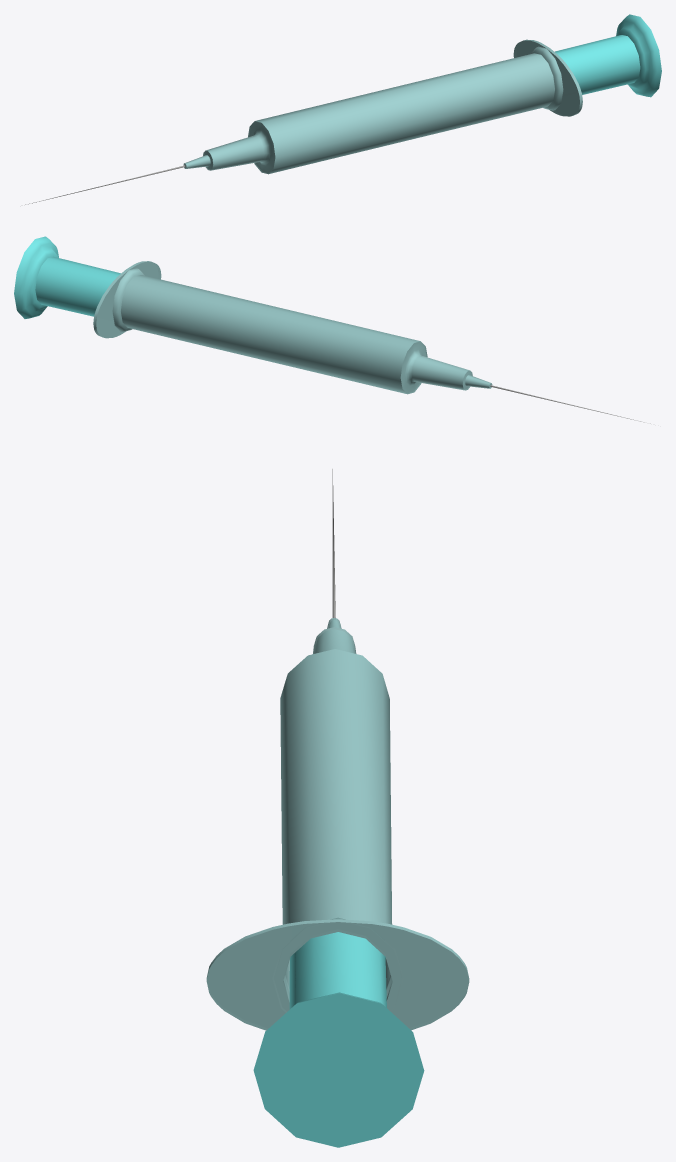
File: Syringe.fbx
3 renders of one model, top to bottom at view 1: azimuth 30°, elevation 25°; view 2: azimuth 150°, elevation 25°; view 3: azimuth 270°, elevation 25°, orthographic. The views are drawn at different scales.
Visible parts, largest first — view 1: sy_Shape_1_1; view 2: sy_Shape_1_1; view 3: sy_Shape_1_1.
Part boxes in pixels (left/top/right/bottom): sy_Shape_1_1: left=25, top=14, right=661, bottom=204; sy_Shape_1_1: left=14, top=236, right=650, bottom=423; sy_Shape_1_1: left=206, top=469, right=469, bottom=1147.
Size of the model in its own units: 13.68 by 1.62 by 2.49.
